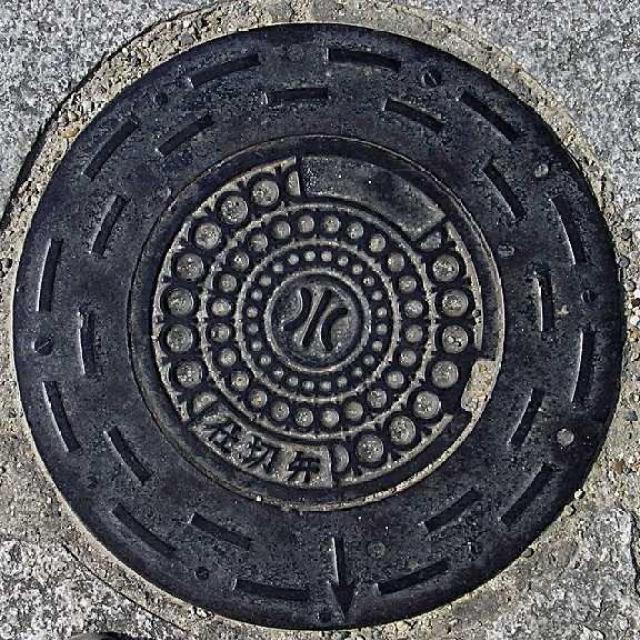manhole: (14, 25, 624, 629)
